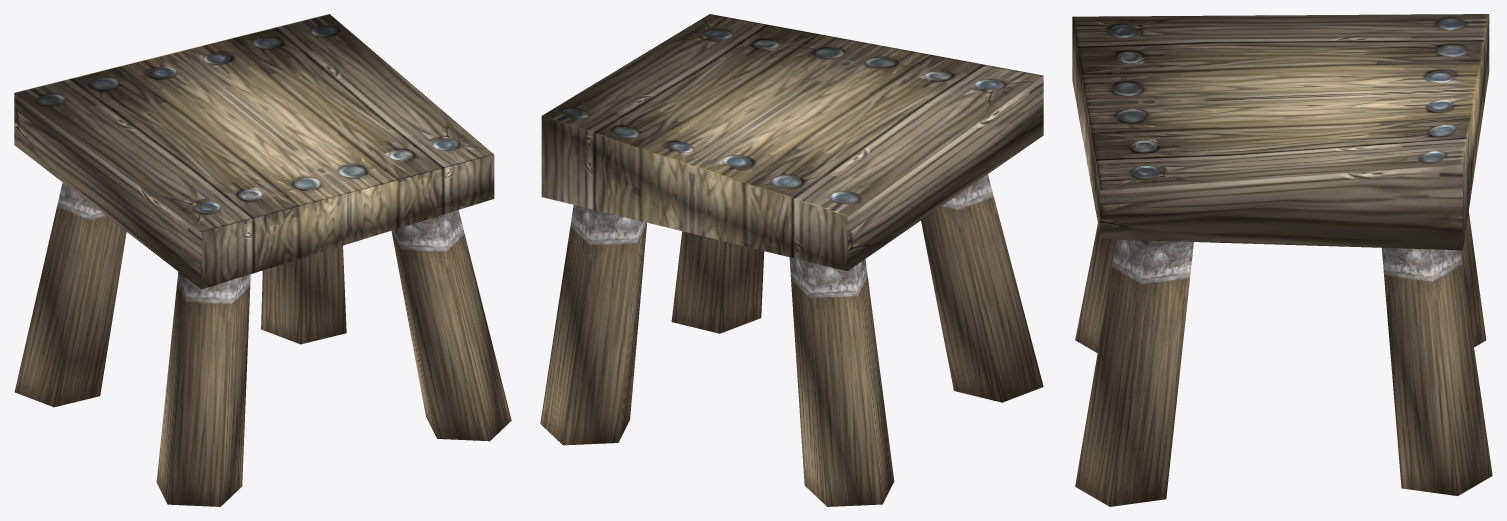
Rendered from westfallchair.obj.
The picture shows the model from 3 angles, left to right: view 1: azimuth 30°, elevation 25°; view 2: azimuth 150°, elevation 25°; view 3: azimuth 270°, elevation 25°; orthographic projection. The views are drawn at different scales.
Visible parts, largest first — view 1: westfallchair; view 2: westfallchair; view 3: westfallchair.
Part boxes in pixels (bbox=[...]): westfallchair: bbox=[14, 14, 511, 506]; westfallchair: bbox=[540, 14, 1043, 506]; westfallchair: bbox=[1072, 14, 1492, 506].
Size of the model in its own units: 0.6645 by 0.5471 by 0.6314.
1 material, 1 textured.
